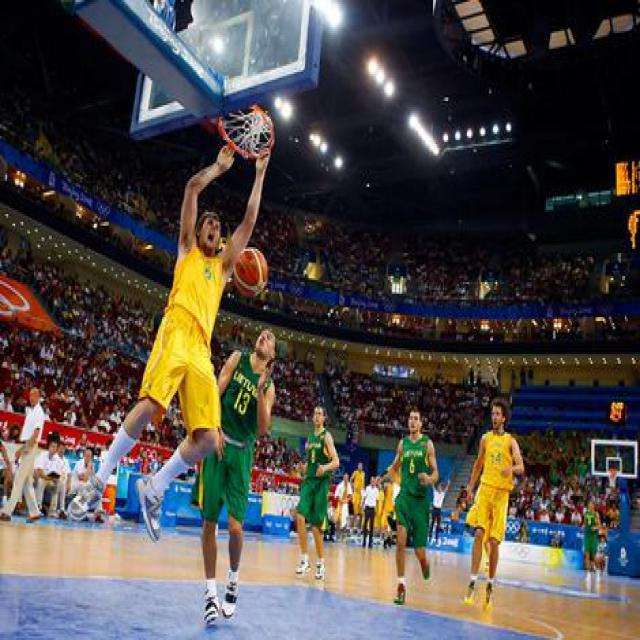basketball: (229, 249, 270, 297)
